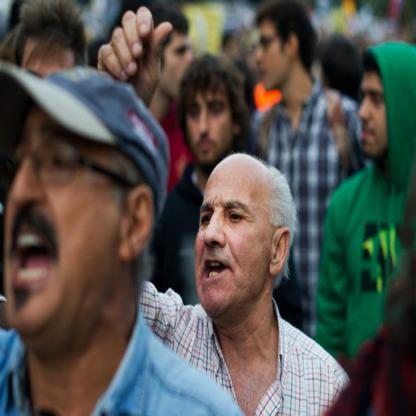face: (5, 93, 121, 334), (196, 163, 271, 313), (188, 79, 234, 163), (360, 67, 394, 154), (162, 26, 195, 102), (258, 22, 290, 90)
